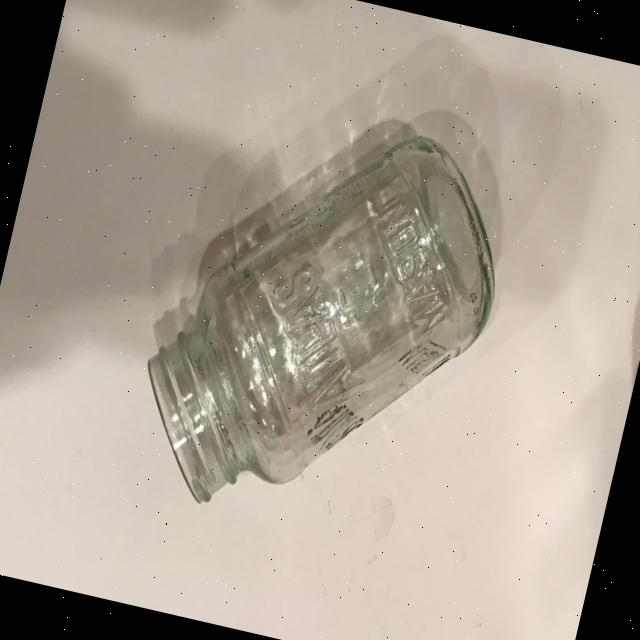glass: (117, 78, 528, 557)
